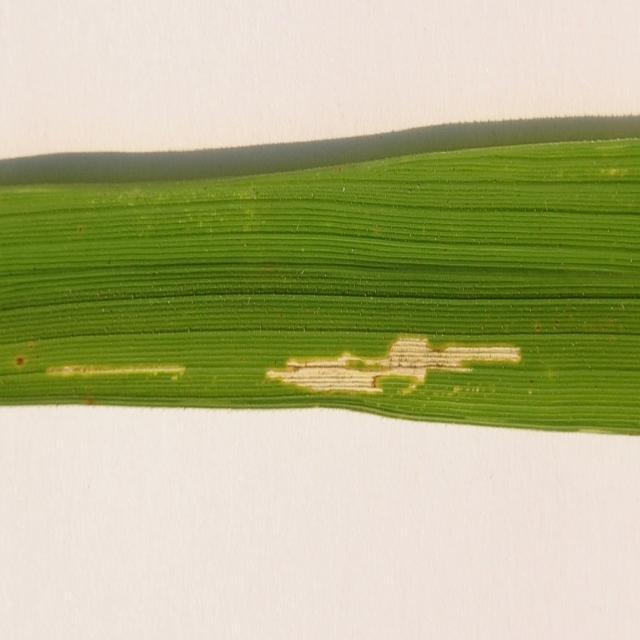Unhealthy: (266, 335, 521, 395), (48, 362, 187, 382), (16, 354, 24, 370)
